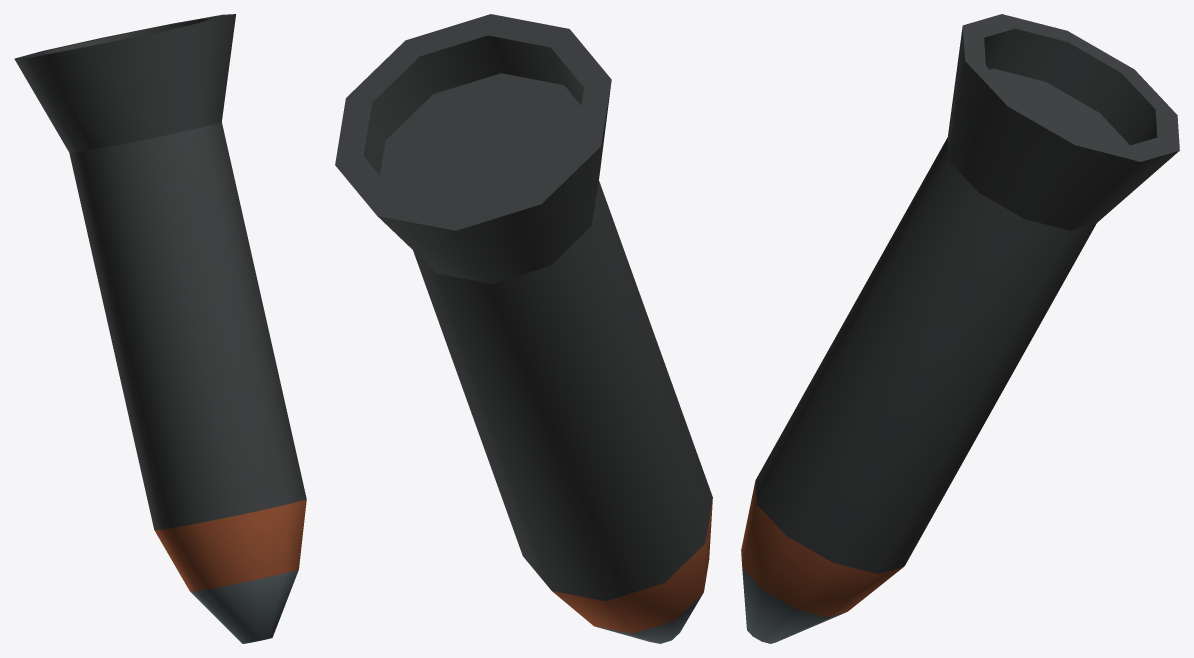
The model's file is Bg missile.fbx.
3 renders of one model, left to right at view 1: azimuth 30°, elevation 25°; view 2: azimuth 150°, elevation 25°; view 3: azimuth 270°, elevation 25°, orthographic. The views are drawn at different scales.
Parts seen in each view (by area): view 1: Missile; view 2: Missile; view 3: Missile.
Part boxes in pixels (x1,y1,x2,y2): Missile: (14, 14, 306, 643); Missile: (335, 14, 712, 643); Missile: (741, 14, 1179, 643).
Size of the model in its own units: 80.38 by 214 by 141.
